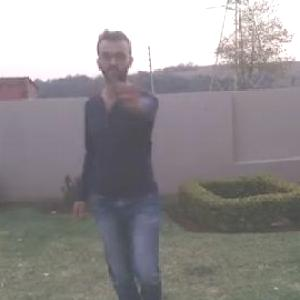takeoff-hand: (112, 66, 154, 106)
